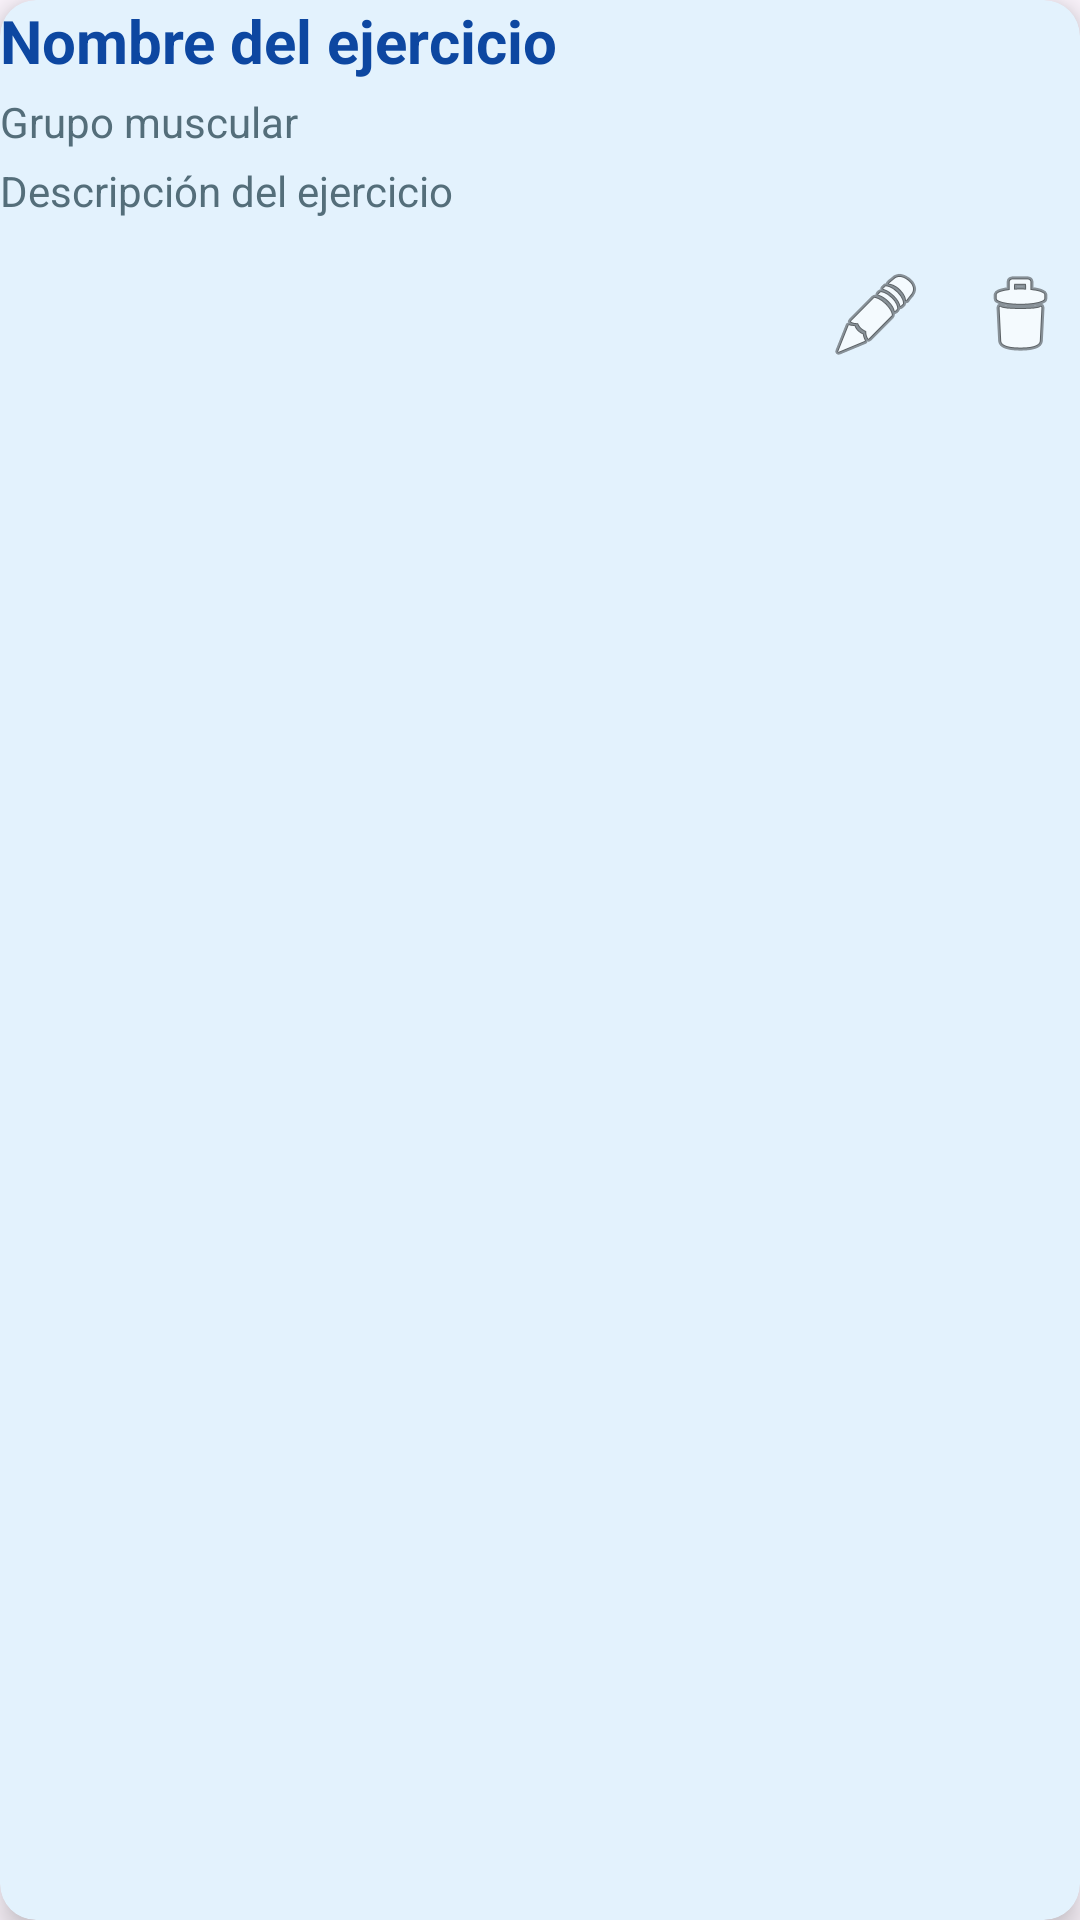

Screen size 1080 × 1920. Icon name, then its box in pixels as (x1, y1, x2, y2):
Editar: (835, 274, 916, 355)
Eliminar: (993, 276, 1048, 351)
